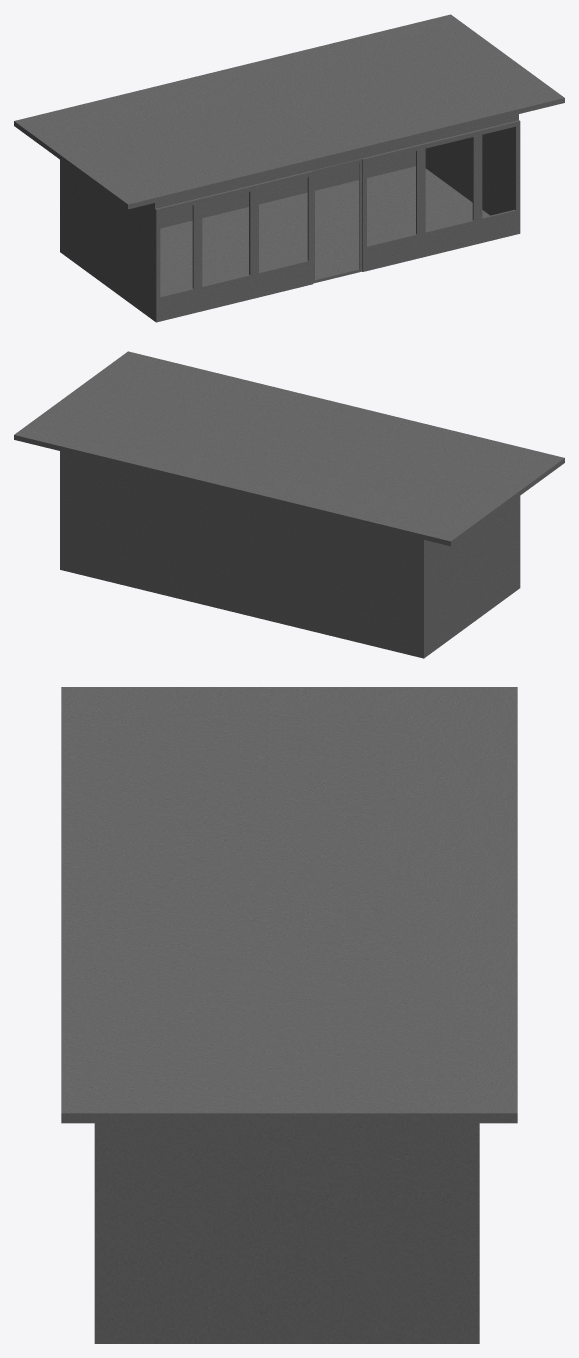
Rendered from hotel.glb.
3 views of the same model, one above another, from view 1: azimuth 30°, elevation 25°; view 2: azimuth 150°, elevation 25°; view 3: azimuth 270°, elevation 25° (orthographic). The views are drawn at different scales.
Visible parts, largest first — view 1: Cafe; view 2: Cafe; view 3: Cafe.
Boxes of the visible parts, <box> form: Cafe: <box>14,14,564,322</box>; Cafe: <box>14,351,564,658</box>; Cafe: <box>61,687,517,1343</box>.
Size of the model in its own units: 9.28 by 2.7 by 4.2.
1 material, 1 textured.
